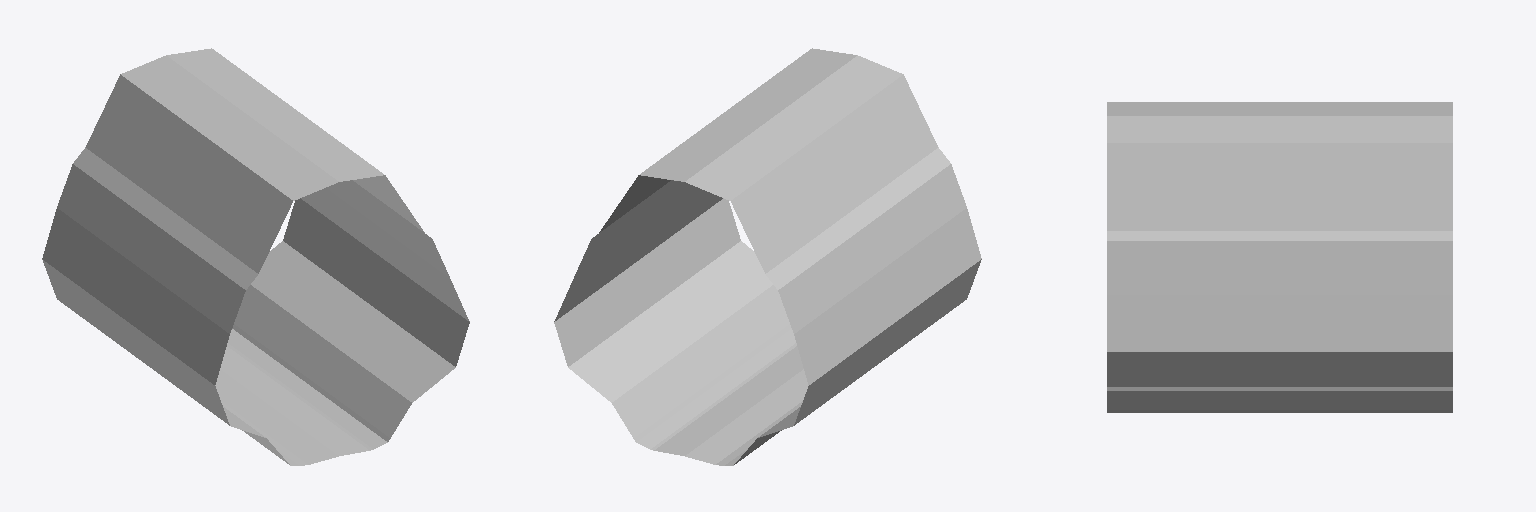
File: nose_shaft.obj
The picture shows the model from 3 angles: view 1: azimuth 30°, elevation 25°; view 2: azimuth 150°, elevation 25°; view 3: azimuth 270°, elevation 25°; orthographic projection.
Parts seen in each view (by area): view 1: object_1; view 2: object_1; view 3: object_1.
Boxes of the visible parts, <box> form: object_1: <box>42,48,469,465</box>; object_1: <box>554,48,981,465</box>; object_1: <box>1107,102,1452,412</box>.
Size of the model in its own units: 8.48 by 8.8 by 10.